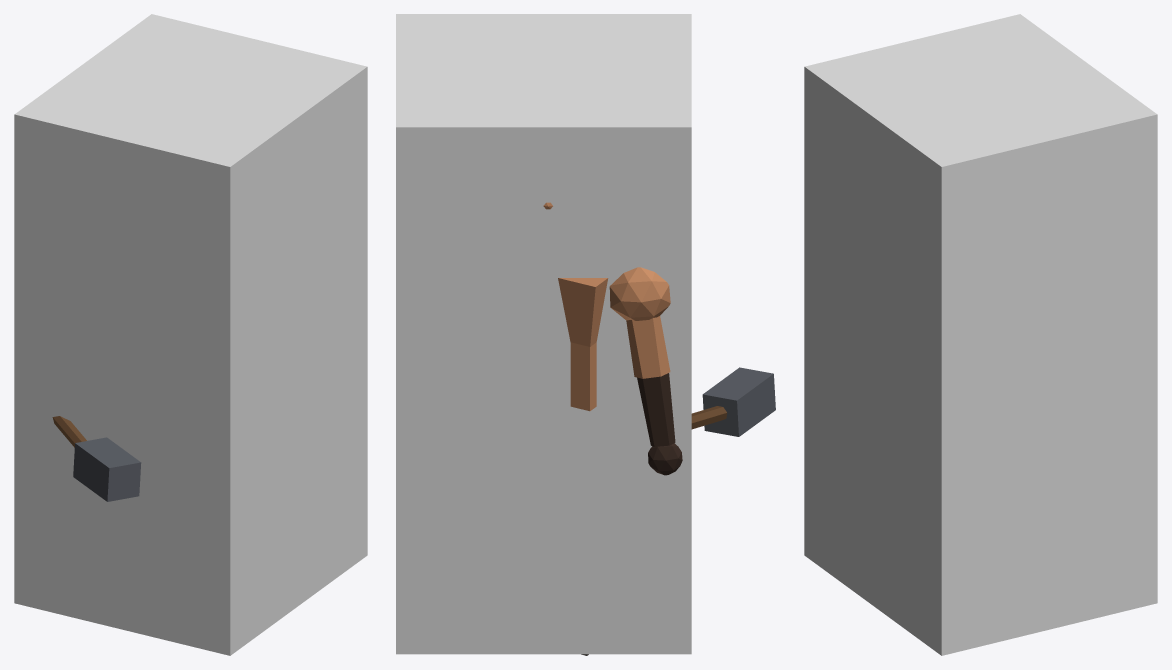
The model's file is npc_blacksmith.fbx.
3 renders of one model, left to right at view 1: azimuth 30°, elevation 25°; view 2: azimuth 150°, elevation 25°; view 3: azimuth 270°, elevation 25°, orthographic. The views are drawn at different scales.
Visible parts, largest first — view 1: Root__0.00_3.00_-0.60__3.05_6.00_2.77, ArmR__Torso__1.15_4.08_0.00; view 2: Root__0.00_3.00_-0.60__3.05_6.00_2.77, ArmR__Torso__1.15_4.08_0.00, Torso__Root__0.00_2.58_0.00; view 3: Root__0.00_3.00_-0.60__3.05_6.00_2.77.
Boxes of the visible parts, x1,y1,x2,y2 form: Root__0.00_3.00_-0.60__3.05_6.00_2.77: (14, 14, 367, 655); ArmR__Torso__1.15_4.08_0.00: (52, 416, 141, 501); Root__0.00_3.00_-0.60__3.05_6.00_2.77: (396, 14, 691, 654); ArmR__Torso__1.15_4.08_0.00: (609, 267, 775, 475); Torso__Root__0.00_2.58_0.00: (558, 278, 608, 411); Root__0.00_3.00_-0.60__3.05_6.00_2.77: (804, 14, 1157, 655).
Bounding box in the file's own units: 113 × 169 × 110.
1 material, 1 textured.
